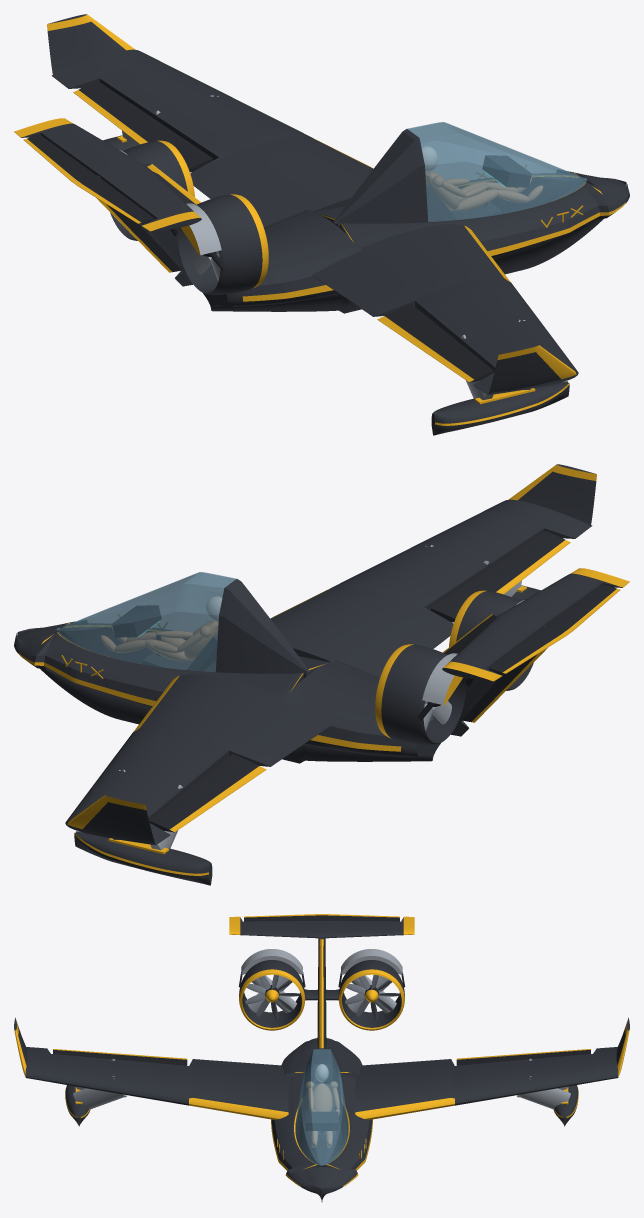
The model's file is B_faceted__semi_35.glb.
3 views of the same model, one above another, from view 1: azimuth 30°, elevation 25°; view 2: azimuth 150°, elevation 25°; view 3: azimuth 270°, elevation 25° (orthographic). The views are drawn at different scales.
Parts seen in each view (by area): view 1: Ricochet_Wing_Port, Ricochet_ConceptA_Hull_Cabin, Ricochet_Wing_Stbd, Ricochet_Canopy_Glass, Ricochet_Tail_Pylon_T_Tail, Ricochet_Duct_Stbd, Ricochet_Aileron_Port, Ricochet_Aileron_Stbd, Ricochet_Sponson_Stbd, Ricochet_Winglet_Port, Ricochet_Winglet_Stbd, Study_Pilot_Manikin (+5 smaller); view 2: Ricochet_Wing_Stbd, Ricochet_ConceptA_Hull_Cabin, Ricochet_Wing_Port, Ricochet_Canopy_Glass, Ricochet_Tail_Pylon_T_Tail, Ricochet_Duct_Port, Ricochet_Aileron_Stbd, Ricochet_Aileron_Port, Ricochet_Sponson_Port, Ricochet_Winglet_Stbd, Ricochet_Winglet_Port, Study_Pilot_Manikin (+5 smaller); view 3: Ricochet_Wing_Port, Ricochet_Wing_Stbd, Ricochet_ConceptA_Hull_Cabin, Ricochet_Canopy_Glass, Ricochet_Tail_Pylon_T_Tail, Ricochet_Duct_Port, Ricochet_Duct_Stbd, Study_Pilot_Manikin, Ricochet_Elevator, Ricochet_Aileron_Port, Ricochet_Aileron_Stbd, Ricochet_Fan_Rotor_Port (+8 smaller).
Part boxes in pixels (box(x1,y1,x2,y2)): Ricochet_Wing_Port: box(51, 49, 373, 227); Ricochet_ConceptA_Hull_Cabin: box(203, 171, 629, 313); Ricochet_Wing_Stbd: box(312, 224, 578, 395); Ricochet_Canopy_Glass: box(332, 122, 587, 223); Ricochet_Tail_Pylon_T_Tail: box(14, 118, 201, 286); Ricochet_Duct_Stbd: box(178, 194, 268, 294); Ricochet_Aileron_Port: box(73, 81, 213, 172); Ricochet_Aileron_Stbd: box(377, 303, 494, 382); Ricochet_Sponson_Stbd: box(431, 381, 569, 435); Ricochet_Winglet_Port: box(47, 14, 135, 75); Ricochet_Winglet_Stbd: box(488, 345, 576, 394); Study_Pilot_Manikin: box(422, 146, 542, 211); Ricochet_Wing_Stbd: box(270, 499, 592, 677); Ricochet_ConceptA_Hull_Cabin: box(14, 621, 440, 763); Ricochet_Wing_Port: box(65, 674, 331, 845); Ricochet_Canopy_Glass: box(56, 572, 311, 673); Ricochet_Tail_Pylon_T_Tail: box(442, 568, 629, 736); Ricochet_Duct_Port: box(375, 644, 465, 744); Ricochet_Aileron_Stbd: box(430, 531, 570, 622); Ricochet_Aileron_Port: box(149, 753, 266, 832); Ricochet_Sponson_Port: box(74, 831, 212, 885); Ricochet_Winglet_Stbd: box(508, 464, 596, 525); Ricochet_Winglet_Port: box(67, 795, 155, 844); Study_Pilot_Manikin: box(101, 596, 221, 661); Ricochet_Wing_Port: box(355, 1047, 618, 1119); Ricochet_Wing_Stbd: box(25, 1047, 288, 1119); Ricochet_ConceptA_Hull_Cabin: box(271, 1038, 372, 1202); Ricochet_Canopy_Glass: box(295, 1048, 348, 1165); Ricochet_Tail_Pylon_T_Tail: box(229, 916, 414, 1048); Ricochet_Duct_Port: box(338, 960, 404, 1030); Ricochet_Duct_Stbd: box(239, 960, 305, 1030); Study_Pilot_Manikin: box(306, 1064, 339, 1147); Ricochet_Elevator: box(244, 914, 399, 921); Ricochet_Aileron_Port: box(456, 1049, 590, 1065); Ricochet_Aileron_Stbd: box(53, 1049, 187, 1065); Ricochet_Fan_Rotor_Port: box(345, 975, 399, 1019).
Size of the model in its own units: 6.78 by 2.34 by 9.64.
